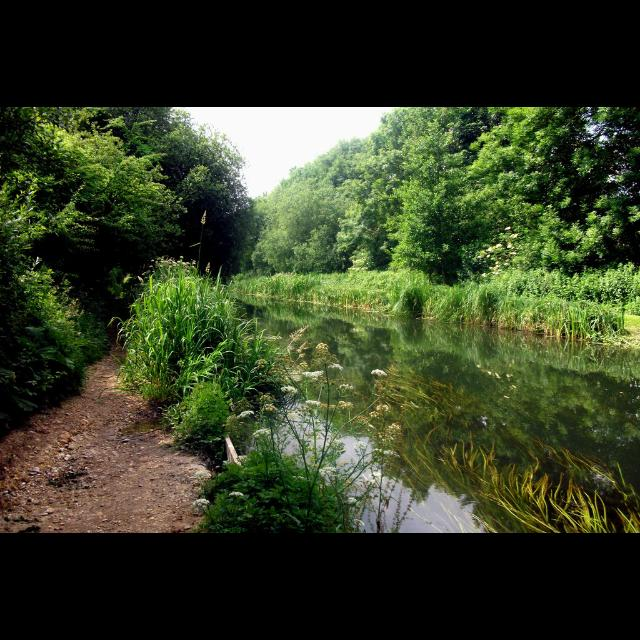Flower: (227, 343, 401, 525), (143, 255, 194, 273), (192, 498, 208, 512), (193, 470, 210, 480)
